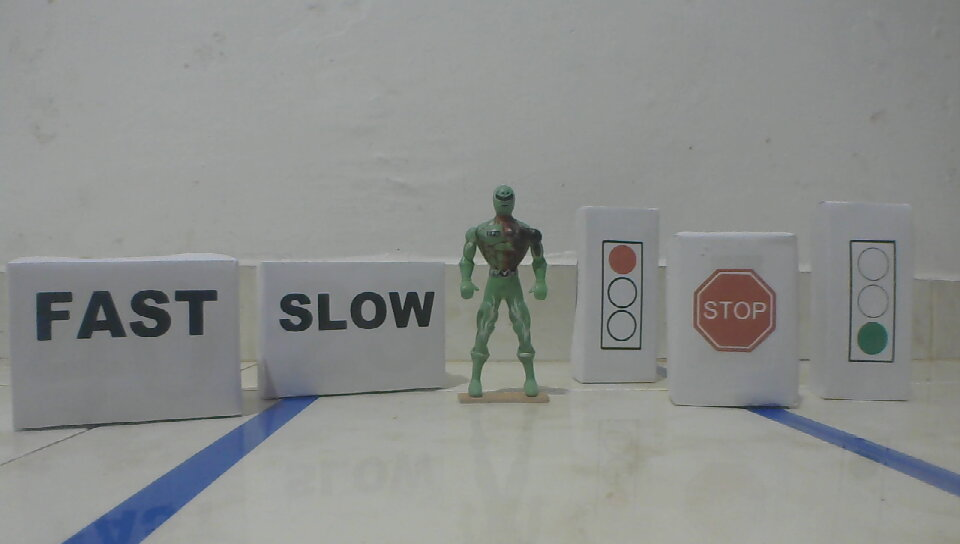Fast: (33, 288, 220, 341)
Green Traffic Light: (846, 237, 898, 367)
Person: (458, 183, 549, 404)
Red Traffic Light: (598, 238, 645, 353)
Slow: (278, 290, 438, 334)
Stop Sign: (690, 267, 779, 356)
